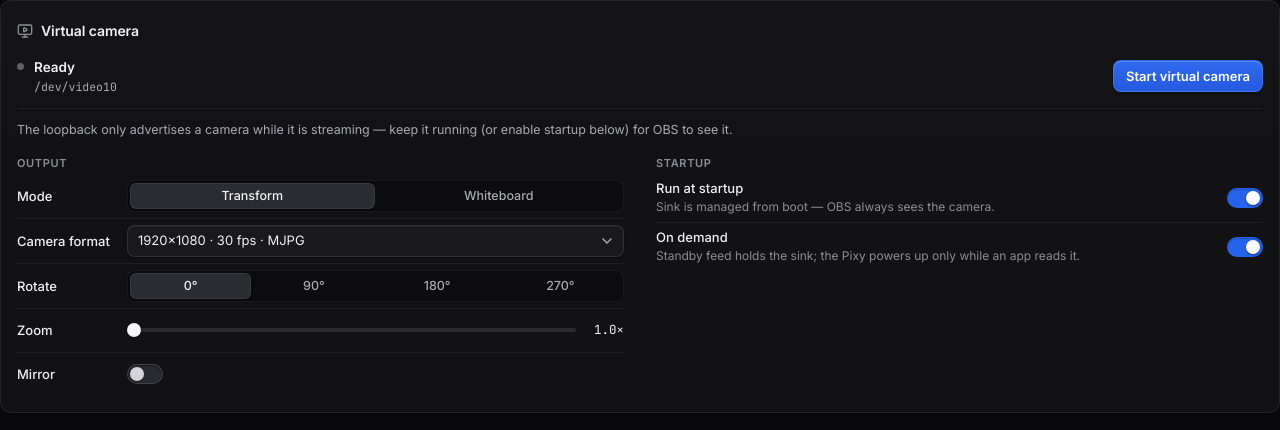
it: VirtualCamPanel › hides transform controls in whiteboard mode
The image size is (1280, 430).
Expected: the text "Mirror" is shown, x1=17 y1=366 x2=55 y2=382
Click the button "Whiteboard" at (499, 196), box x1=376 y1=183 x2=621 y2=209
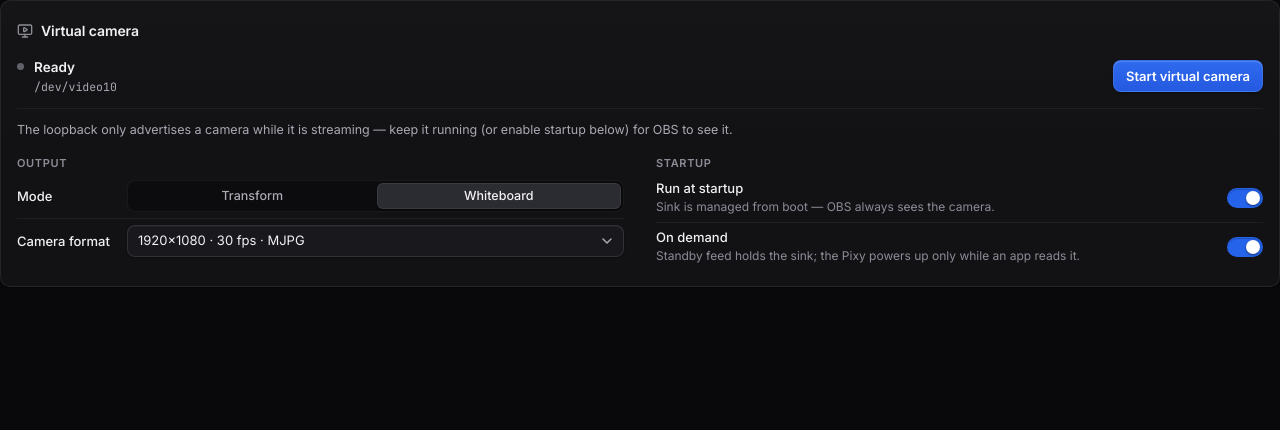
Expected: the text "Mirror" is gone
Expected: the text "Rotate" is gone
